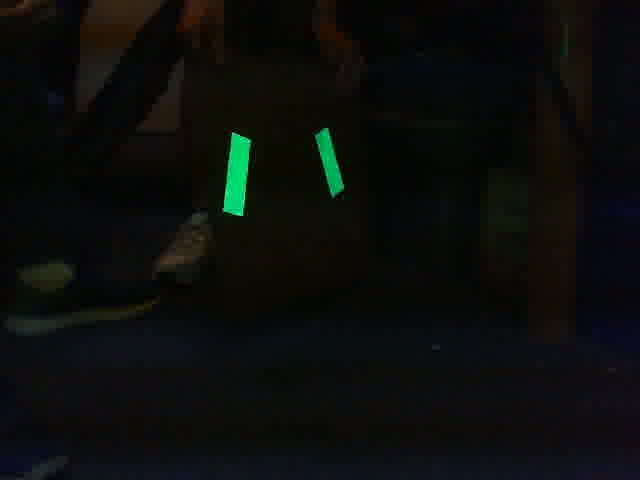target: (221, 127, 347, 218)
